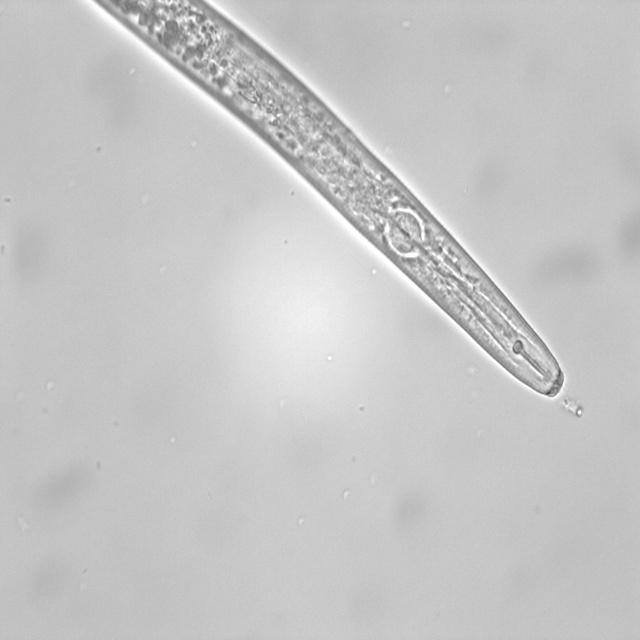Pratylenchus: (97, 0, 569, 407)
